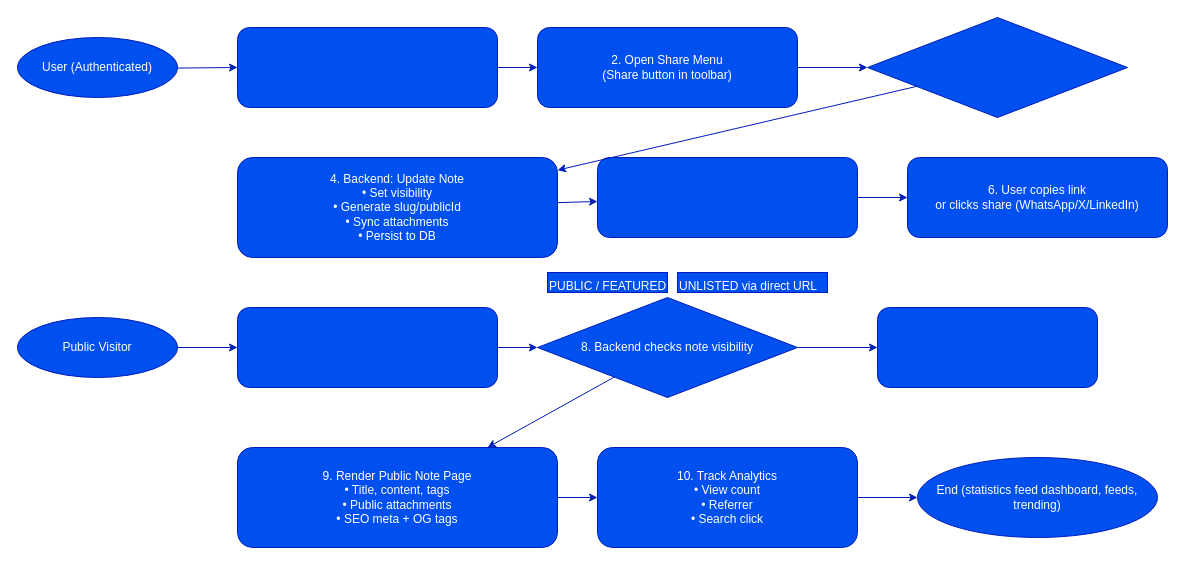
Some shapes in this 1185 by 565 pixel diagram are drawn without their labels. Each missing label, with the centre of its shape:
1. Create / Edit Note (title, content, tags, attachments): [367,67]
3. Choose Visibility PRIVATE / UNLISTED / PUBLIC / FEATURED: [997,67]
5. API returns • visibility • share URLs • slug/publicId: [727,197]
7. Visitor opens /p/{publicId}/{slug}: [367,347]
PRIVATE or invalid → 404 / not accessible: [987,347]
